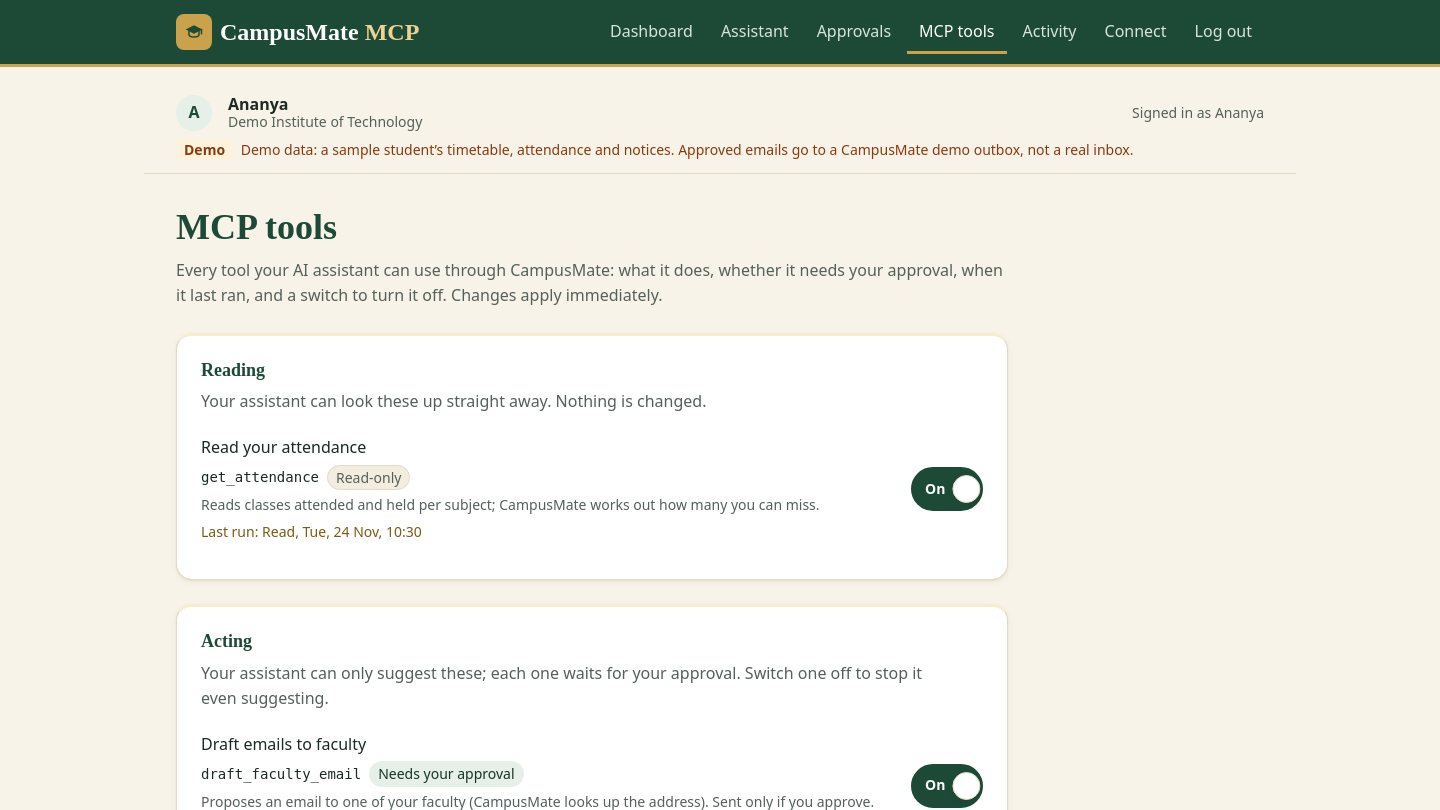
Permissions page › moves a switch only after the server confirms the change
What coordinates should you click on to do the following:
click the switch named "Draft emails to faculty"
I would click on:
 (947, 786)
Its box is [911,764,983,808].
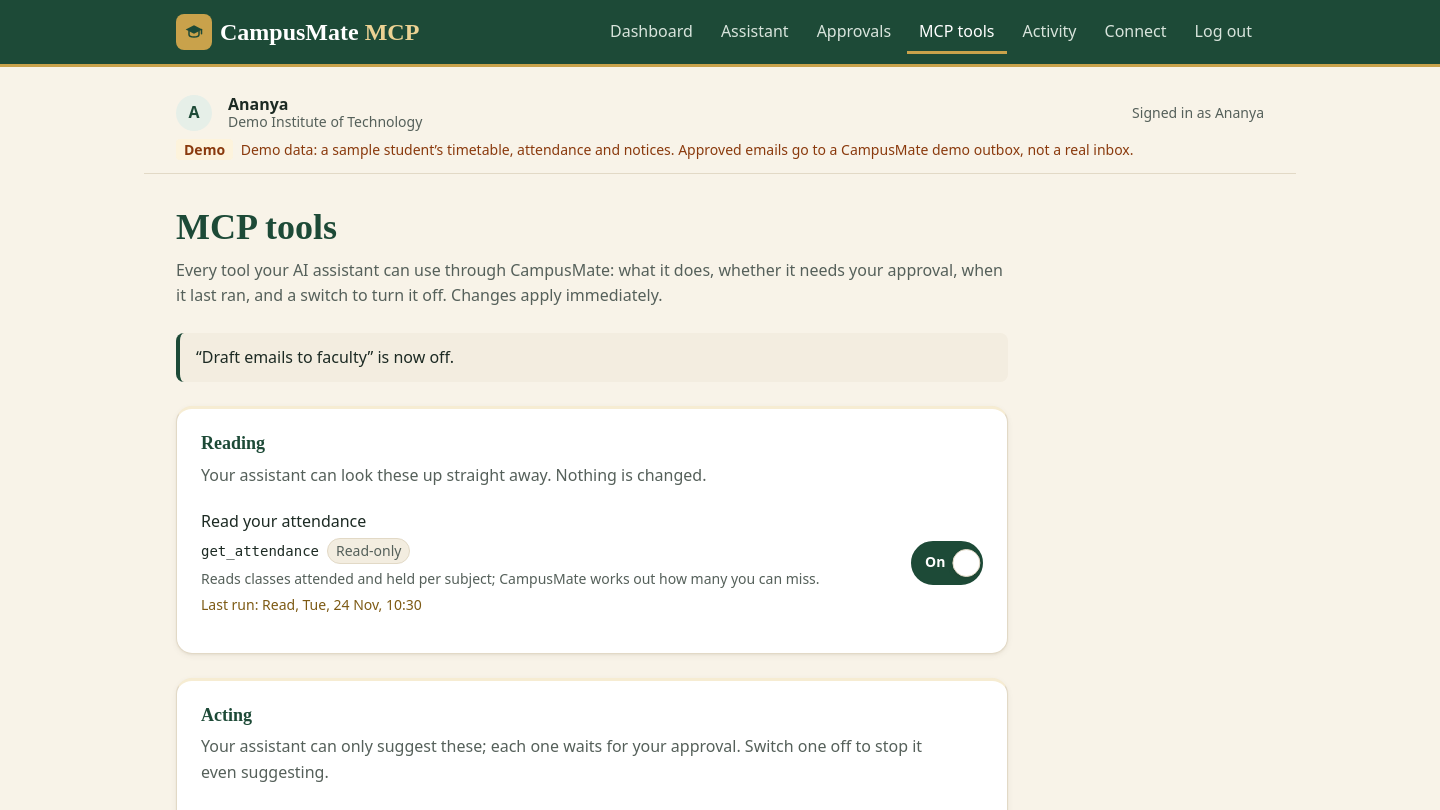
Now the text "“Draft emails to faculty” is now off." is shown, box [176,333,1008,382]
